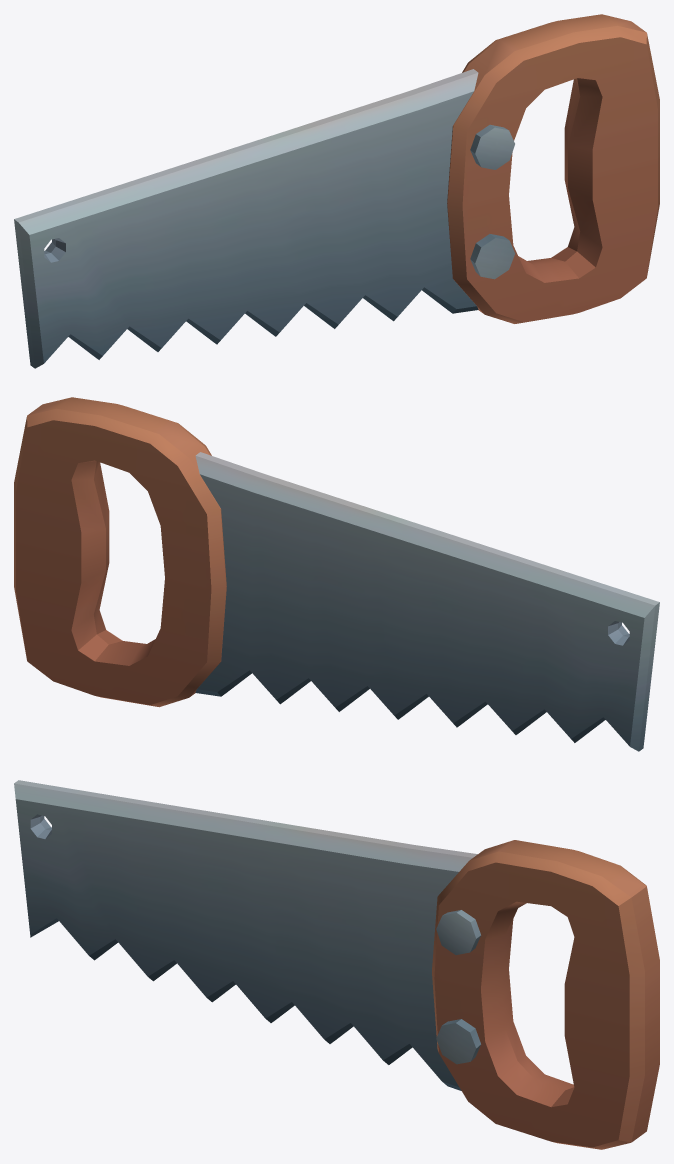
The model's file is saw.glb.
3 renders of one model, top to bottom at view 1: azimuth 30°, elevation 25°; view 2: azimuth 150°, elevation 25°; view 3: azimuth 330°, elevation 25°, orthographic.
Parts seen in each view (by area): view 1: saw; view 2: saw; view 3: saw.
Boxes of the visible parts, <box> form: saw: <box>14,14,659,368</box>; saw: <box>14,397,659,751</box>; saw: <box>14,780,659,1149</box>.
Bounding box in the file's own units: 1.35 × 0.5711 × 0.1291.
Materials: 1 (1 with a texture image).
